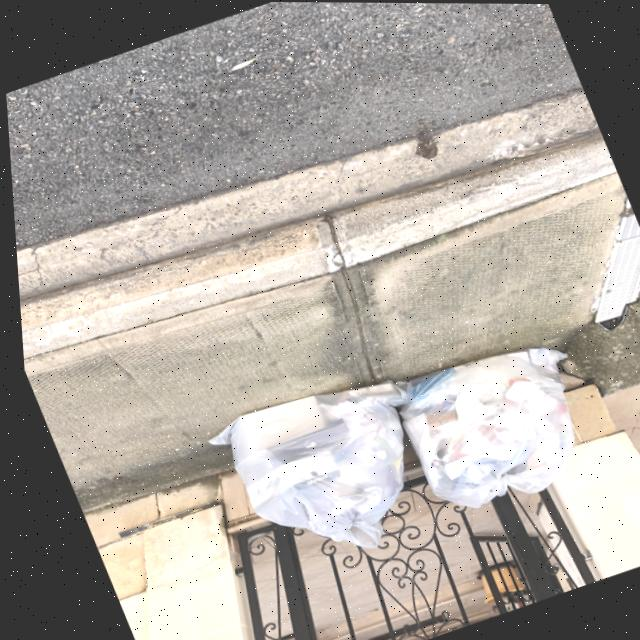Recycled Waste -Grey or Green Bag-: (191, 360, 454, 587), (378, 325, 610, 525)
